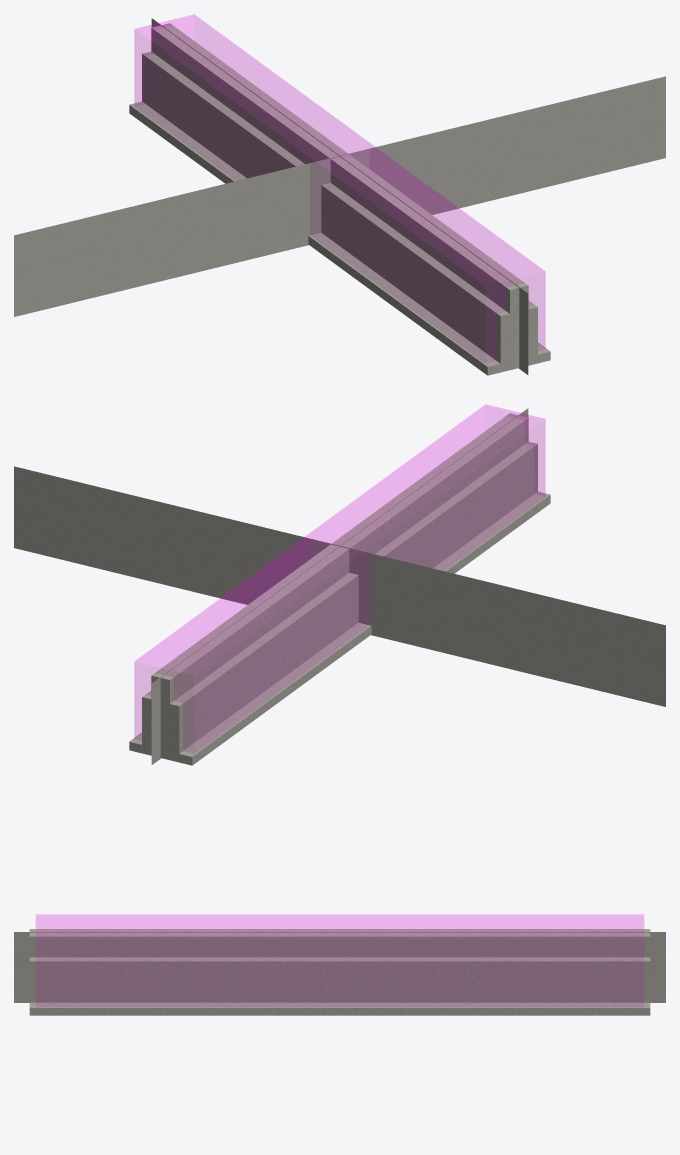
Rendered from krail_blank_6m.dae.
The picture shows the model from 3 angles, top to bottom: view 1: azimuth 30°, elevation 25°; view 2: azimuth 150°, elevation 25°; view 3: azimuth 270°, elevation 25°; orthographic projection. The views are drawn at different scales.
Parts seen in each view (by area): view 1: krail_blank_6m_a50, Colmesh_krail-1, krail_blank_6m_a800, krail_blank_6m_a200; view 2: krail_blank_6m_a50, krail_blank_6m_a800, Colmesh_krail-1, krail_blank_6m_a200; view 3: krail_blank_6m_a800, Colmesh_krail-1, krail_blank_6m_a200, krail_blank_6m_a50.
Boxes of the visible parts, x1,y1,x2,y2 form: krail_blank_6m_a50: (14, 18, 665, 374); Colmesh_krail-1: (134, 14, 545, 362); krail_blank_6m_a800: (129, 23, 550, 375); krail_blank_6m_a200: (162, 113, 537, 363); krail_blank_6m_a50: (14, 408, 665, 764); krail_blank_6m_a800: (129, 413, 550, 765); Colmesh_krail-1: (134, 404, 545, 752); krail_blank_6m_a200: (143, 443, 537, 753); krail_blank_6m_a800: (29, 929, 650, 1015); Colmesh_krail-1: (36, 914, 643, 1006); krail_blank_6m_a200: (29, 957, 647, 1002); krail_blank_6m_a50: (14, 932, 665, 1002).
Size of the model in its own units: 6.3 by 6.3 by 0.8074.
2 materials, 1 textured.
